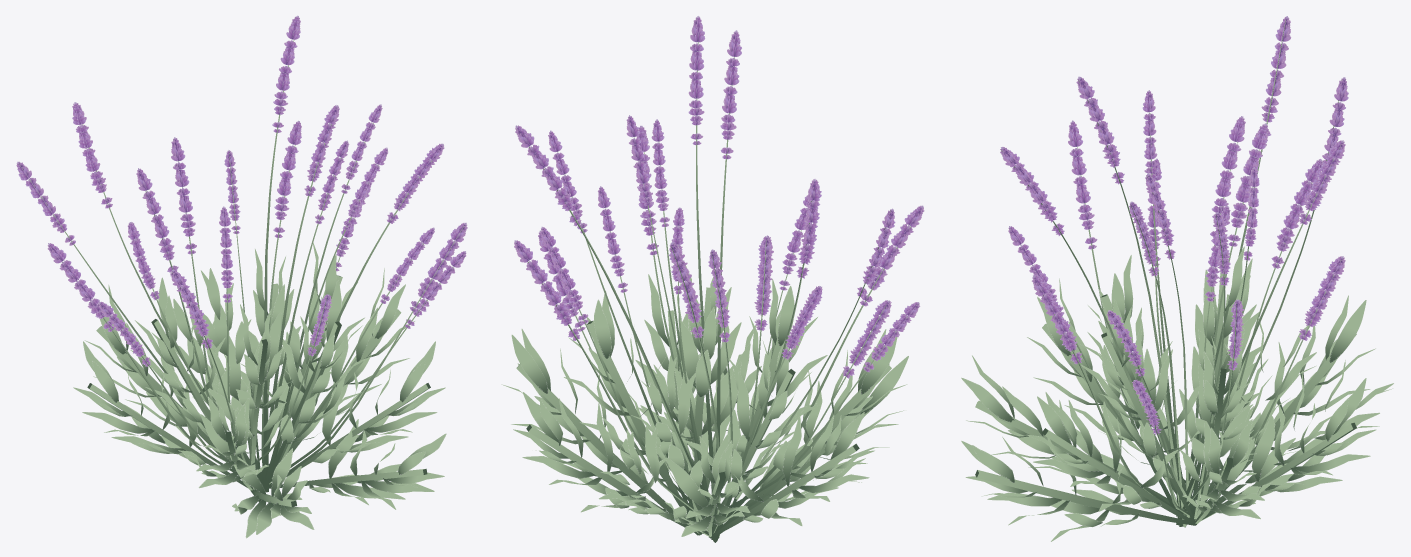
Rendered from SM_Lavande.fbx.
3 renders of one model, left to right at view 1: azimuth 30°, elevation 25°; view 2: azimuth 150°, elevation 25°; view 3: azimuth 270°, elevation 25°, orthographic. The views are drawn at different scales.
Parts seen in each view (by area): view 1: Lavande; view 2: Lavande; view 3: Lavande.
Part boxes in pixels (bbox=[...]): Lavande: bbox=[16, 15, 467, 538]; Lavande: bbox=[501, 16, 924, 542]; Lavande: bbox=[961, 16, 1393, 541].
Bounding box in the file's own units: 58.3 × 63.9 × 54.58.
